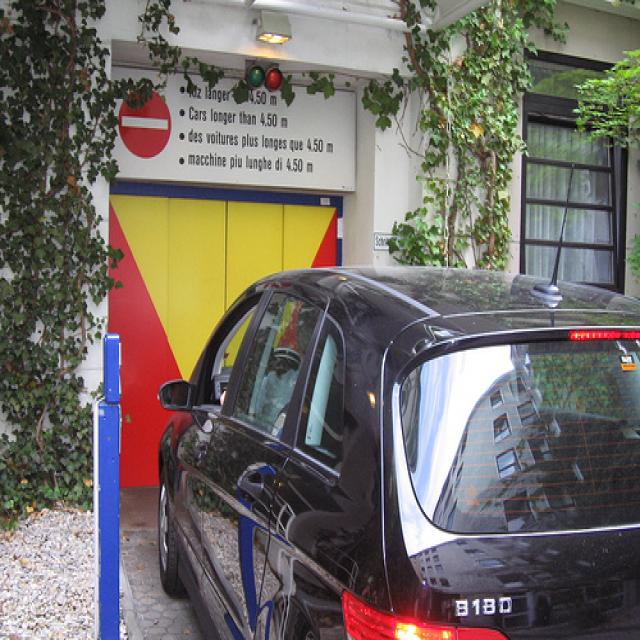Car: (149, 244, 640, 640)
